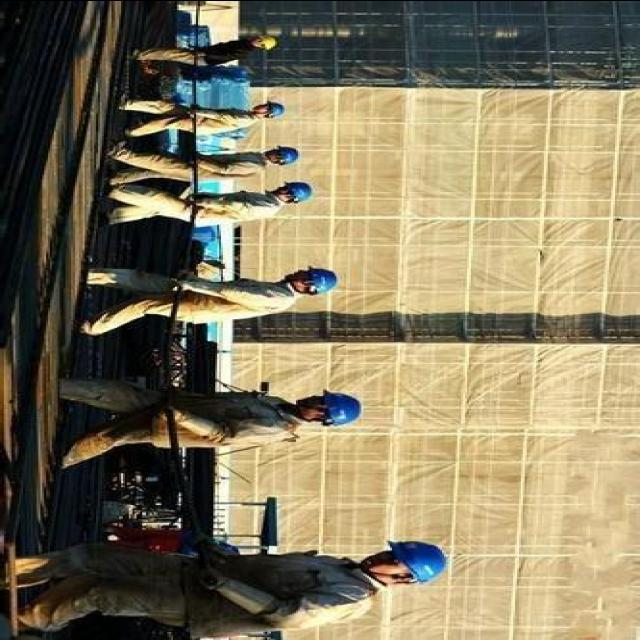helmet: (388, 524, 454, 590), (321, 384, 365, 432), (303, 259, 341, 297), (284, 176, 314, 208), (274, 140, 304, 167), (264, 93, 288, 119), (258, 27, 282, 51)
